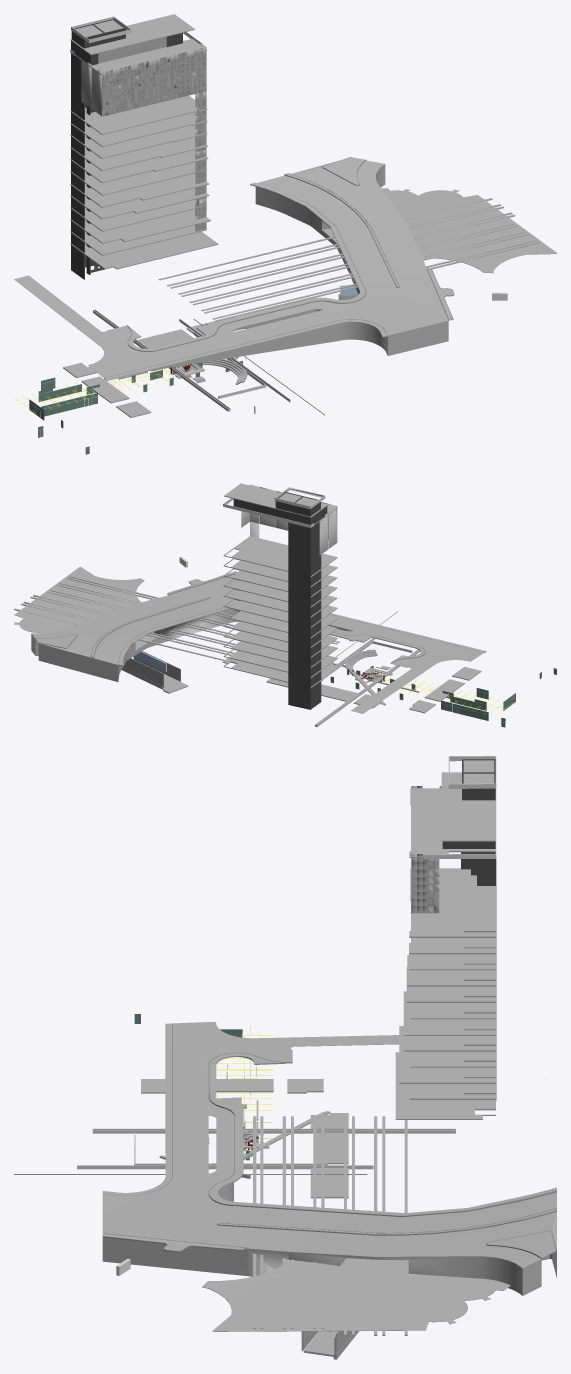
File: plaza-shell.glb
3 renders of one model, top to bottom at view 1: azimuth 30°, elevation 25°; view 2: azimuth 150°, elevation 25°; view 3: azimuth 270°, elevation 25°, orthographic. The views are drawn at different scales.
Parts seen in each view (by area): view 1: SHELL__tiles, SHELL__Material_1541173845, SHELL__22_-_Default, SHELL__Material_1541173878, SHELL__bol5, SHELL__Material_1541173809, SHELL__Rail_glass, SHELL__01_-_Default, SHELL__curb; view 2: SHELL__tiles, SHELL__Material_1541173845, SHELL__bol5, SHELL__22_-_Default, SHELL__Material_1541173809, SHELL__01_-_Default, SHELL__Rail_glass, SHELL__Material_1541173878, SHELL__curb; view 3: SHELL__tiles, SHELL__Material_1541173845, SHELL__22_-_Default, SHELL__Material_1541173809, SHELL__01_-_Default, SHELL__curb, SHELL__bol5, SHELL__Material_1541173878.
Boxes of the visible parts, x1,y1,x2,y2 form: SHELL__tiles: [63, 14, 556, 417]; SHELL__Material_1541173845: [14, 160, 448, 377]; SHELL__22_-_Default: [128, 182, 539, 350]; SHELL__Material_1541173878: [81, 37, 206, 231]; SHELL__bol5: [71, 19, 182, 279]; SHELL__Material_1541173809: [104, 157, 453, 380]; SHELL__Rail_glass: [29, 361, 255, 454]; SHELL__01_-_Default: [70, 16, 290, 411]; SHELL__curb: [104, 157, 454, 378]; SHELL__tiles: [14, 483, 481, 713]; SHELL__Material_1541173845: [31, 574, 483, 713]; SHELL__bol5: [233, 492, 327, 709]; SHELL__22_-_Default: [14, 576, 424, 666]; SHELL__Material_1541173809: [35, 571, 486, 692]; SHELL__01_-_Default: [223, 487, 420, 726]; SHELL__Rail_glass: [322, 665, 556, 727]; SHELL__Material_1541173878: [241, 484, 337, 555]; SHELL__curb: [35, 571, 483, 664]; SHELL__tiles: [141, 760, 510, 1356]; SHELL__Material_1541173845: [102, 1022, 556, 1295]; SHELL__22_-_Default: [209, 1053, 556, 1335]; SHELL__Material_1541173809: [102, 1023, 555, 1352]; SHELL__01_-_Default: [77, 756, 496, 1169]; SHELL__curb: [102, 1023, 556, 1258]; SHELL__bol5: [442, 759, 496, 1100]; SHELL__Material_1541173878: [411, 786, 441, 913].
Bounding box in the file's own units: 162 × 89.61 × 107.
